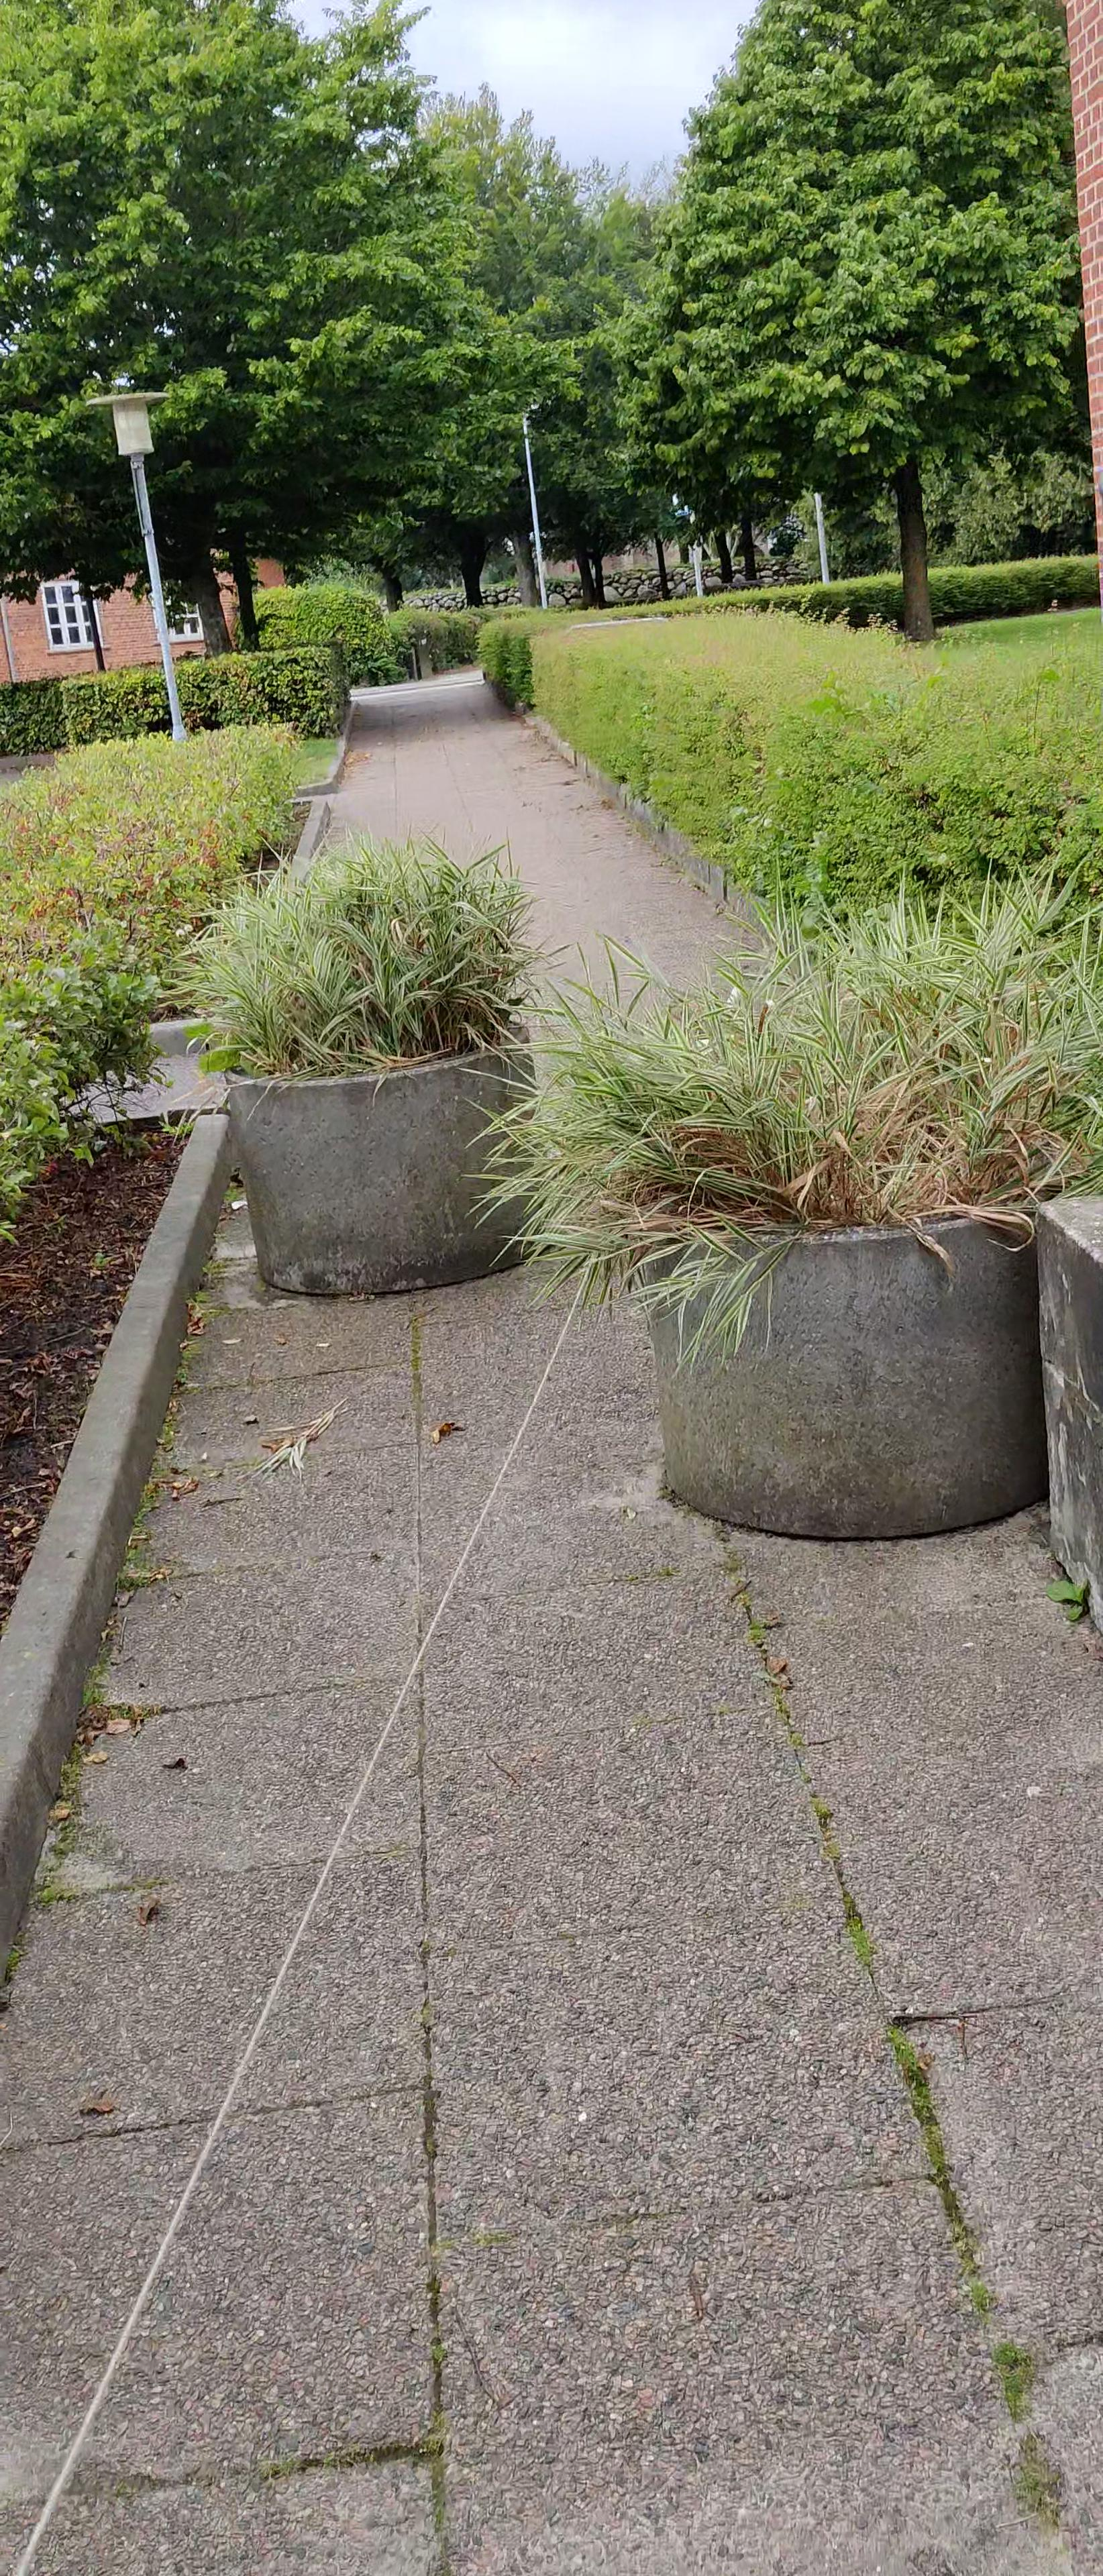Dog: (689, 977, 753, 1043)
